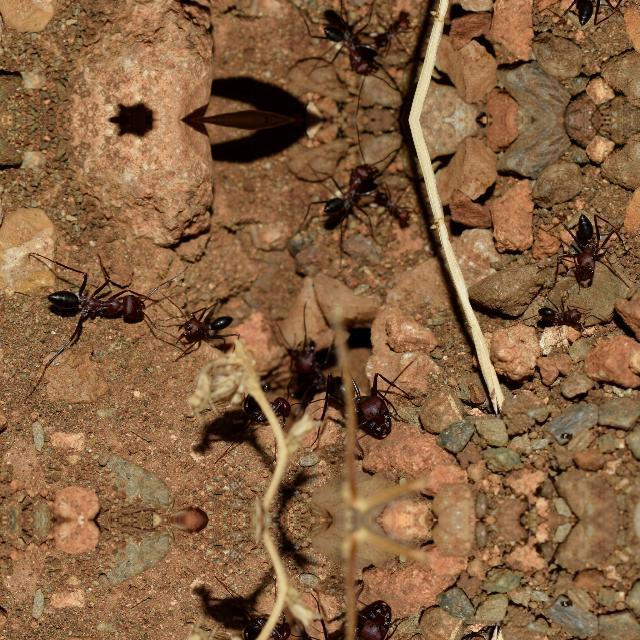Cataglyphis: (302, 151, 408, 231), (302, 7, 408, 87), (542, 204, 630, 286), (33, 274, 157, 330), (343, 382, 405, 442), (169, 304, 245, 352), (542, 0, 628, 34), (343, 596, 405, 640), (526, 294, 596, 330), (288, 328, 322, 400), (236, 395, 294, 427), (234, 612, 294, 640)
